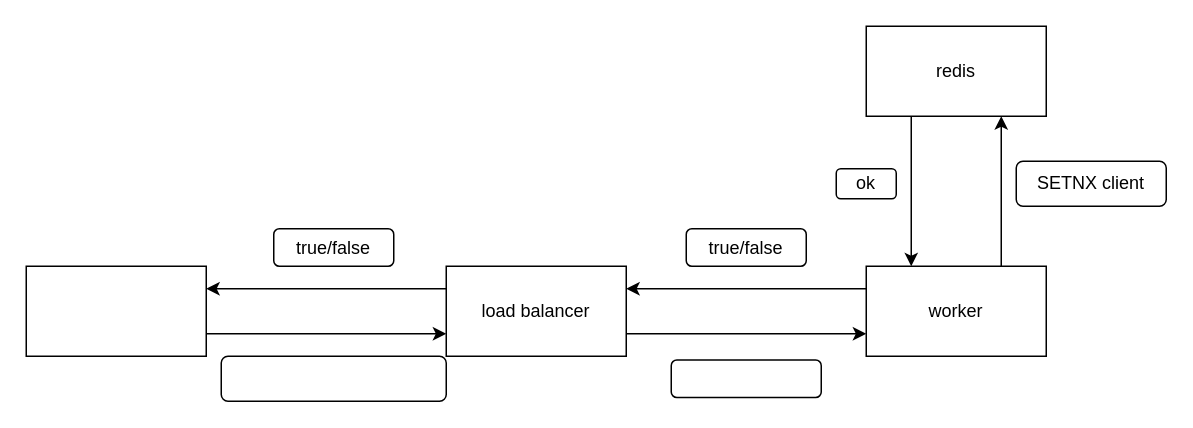
Some shapes in this 1193 by 428 pixel diagram are drawn without their labels. Each missing label, with the centre of its shape:
"client" goes at point (115, 310).
"generar_tiket_numbered" goes at point (333, 378).
"tiquet_numbered" goes at point (745, 378).
